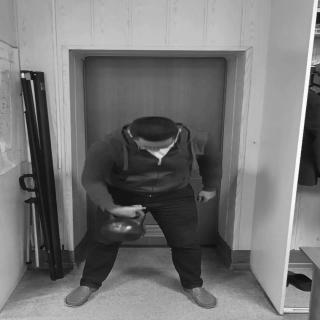kettlebell: (100, 206, 149, 243)
